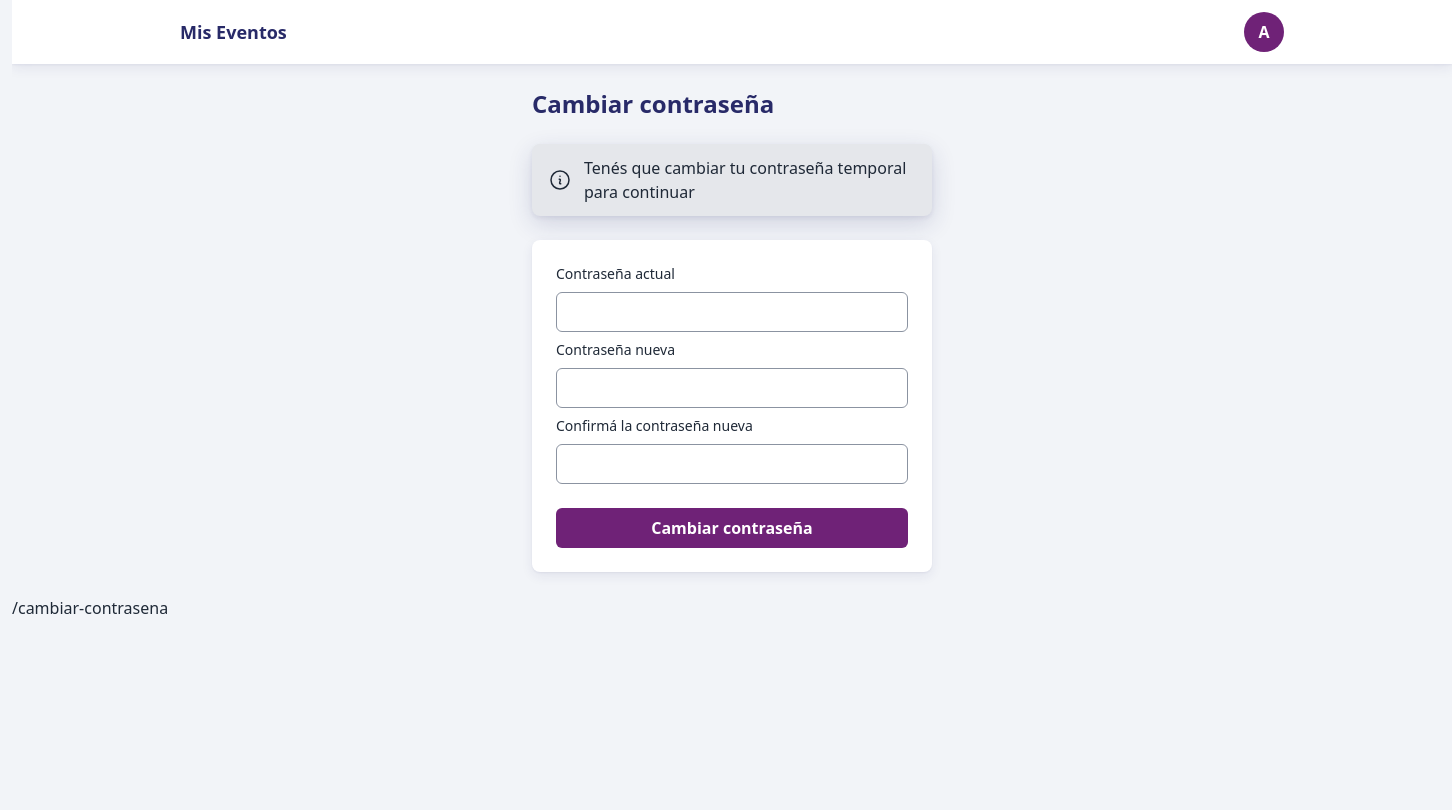
Test: con la contraseña temporal pendiente, el menú de la cuenta y Cerrar sesión funcionan
Click the button named "Menú de la cuenta".
click(1264, 32)  # box [1244,12,1284,52]
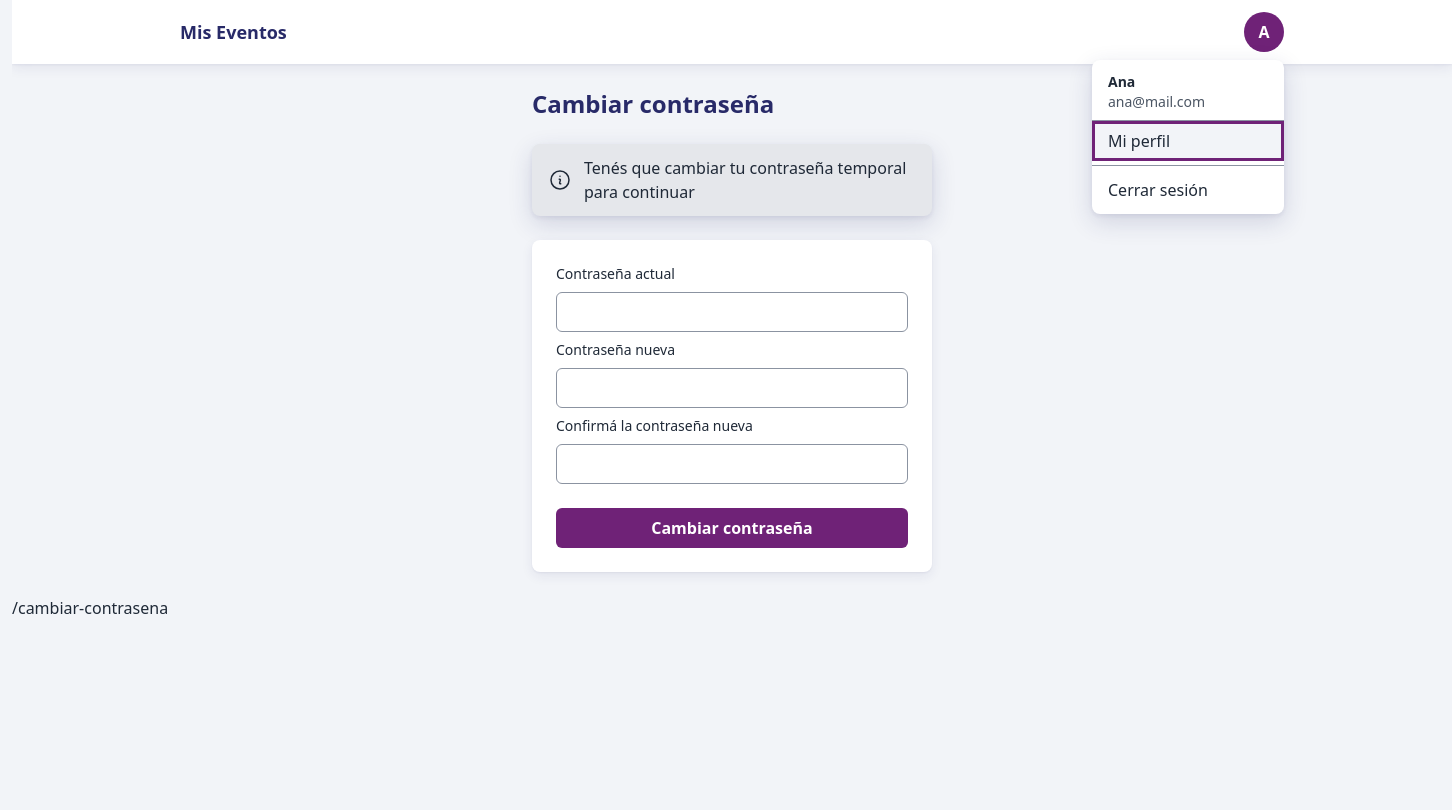
Click the menu item "Cerrar sesión".
click(1188, 190)  # box [1092,170,1284,210]
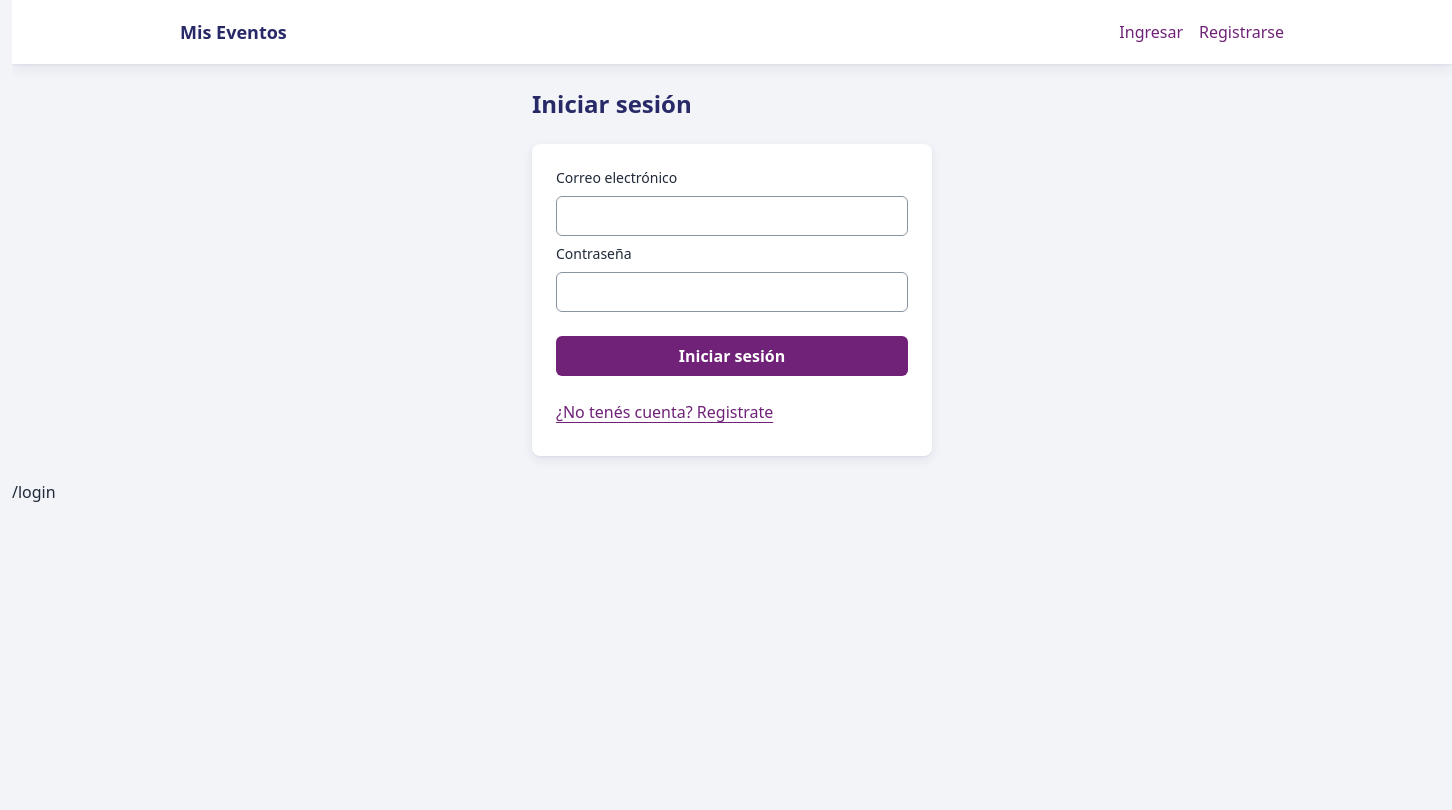
Expected: the heading "Iniciar sesión" is shown, [532,87,692,120]
Expected: the text named "ubicación" reads "/login", [12,481,56,503]
